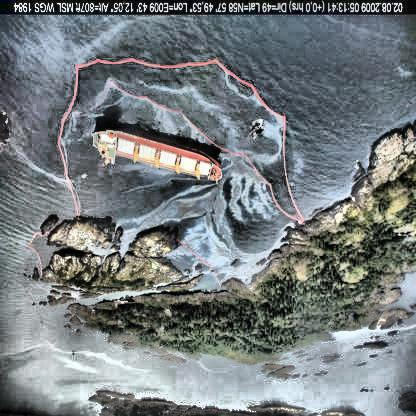sheen: (118, 158, 289, 288)
